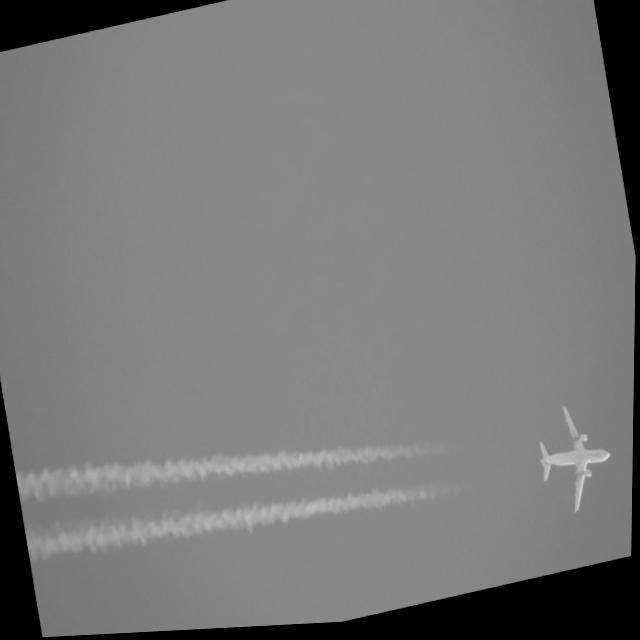aeroplane: (527, 395, 626, 531)
